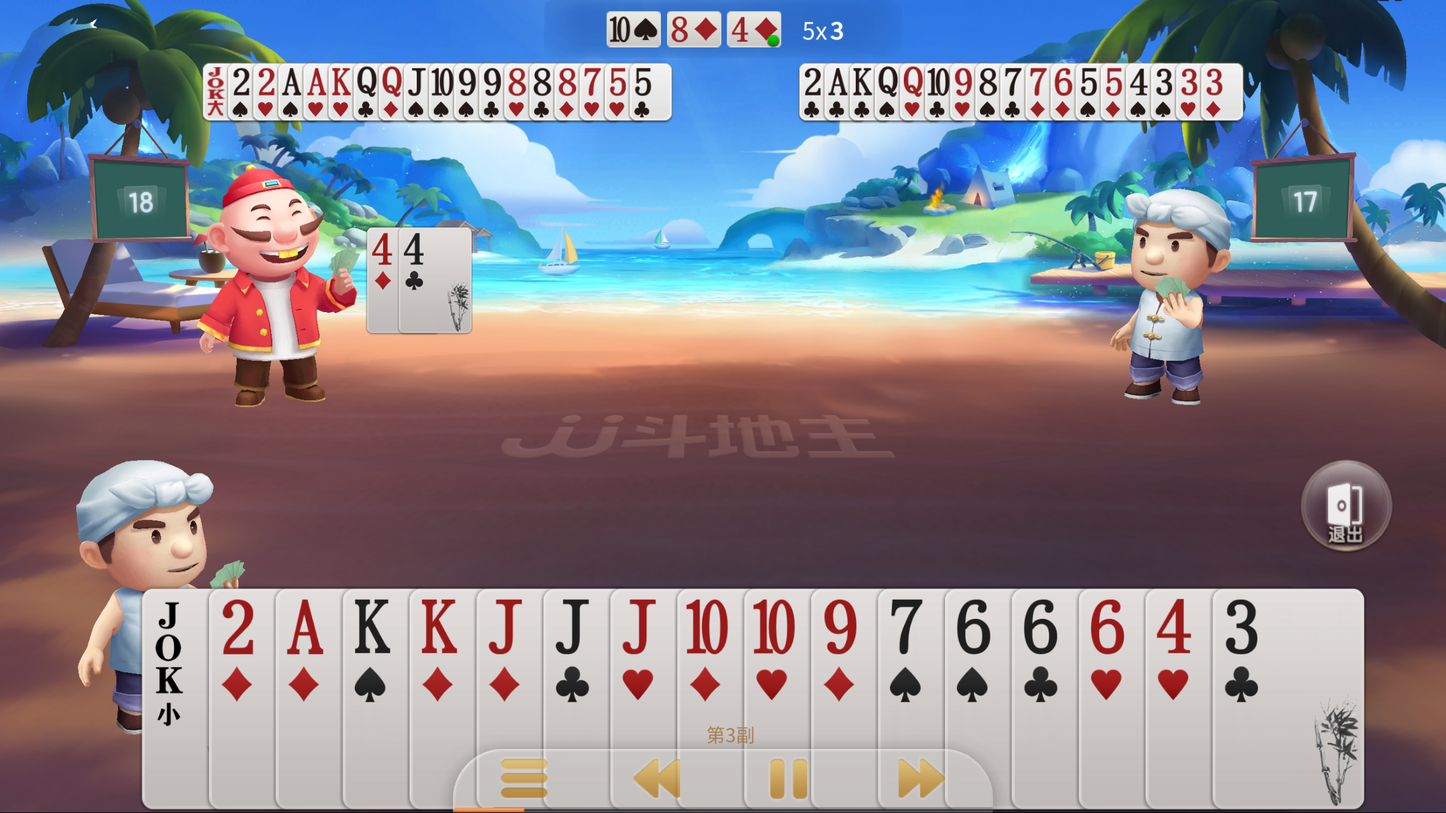A: (280, 595, 333, 662), (304, 65, 327, 100), (826, 65, 849, 100), (279, 65, 302, 100)
J: (480, 593, 531, 662), (613, 594, 665, 661), (547, 594, 595, 664), (405, 65, 427, 100)
JOKER: (201, 63, 226, 103)
K: (346, 594, 400, 664), (414, 593, 467, 662), (327, 64, 352, 100), (850, 64, 874, 100)
Q: (354, 64, 379, 100), (875, 64, 899, 100), (379, 65, 403, 99), (900, 64, 923, 99)
eight: (666, 14, 693, 47), (976, 65, 1000, 100), (555, 66, 579, 100), (530, 66, 553, 100), (505, 66, 528, 99)
five: (631, 65, 660, 100), (1102, 65, 1125, 100), (606, 65, 629, 99), (1078, 65, 1100, 100)
four: (1150, 595, 1201, 662), (365, 225, 396, 270), (400, 230, 432, 270), (726, 9, 754, 48), (1127, 65, 1150, 100)
joker: (146, 596, 194, 701)
nine: (814, 594, 867, 664), (480, 65, 504, 100), (454, 65, 478, 100), (951, 65, 974, 100)
seven: (881, 593, 933, 665), (1025, 65, 1048, 100), (1002, 64, 1024, 100), (580, 65, 602, 99)
six: (948, 594, 1003, 664), (1017, 594, 1070, 664), (1083, 595, 1136, 661), (1051, 65, 1075, 100)
ten: (679, 594, 735, 662), (746, 595, 802, 662), (606, 12, 633, 45), (925, 65, 950, 100), (429, 65, 453, 100)
three: (1217, 595, 1270, 662), (1202, 66, 1228, 99), (1152, 65, 1175, 99), (1176, 66, 1200, 98)
two: (213, 596, 267, 664), (799, 65, 824, 100), (228, 65, 253, 100), (254, 66, 279, 100)
